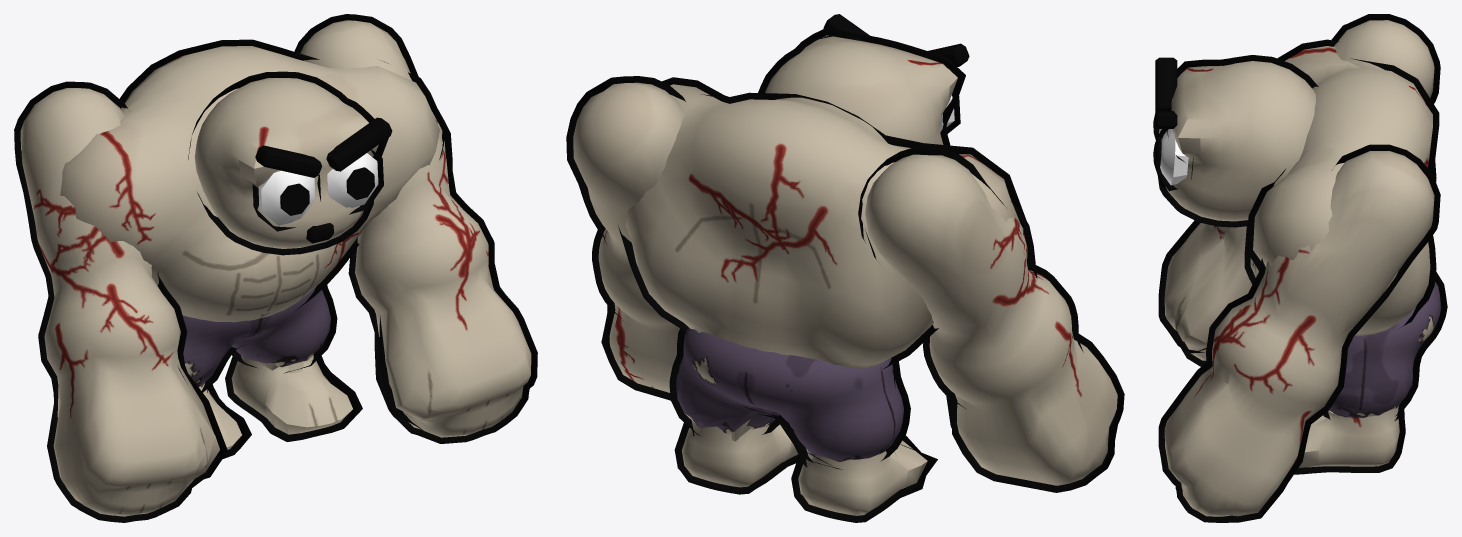
The model's file is tank.glb.
3 renders of one model, left to right at view 1: azimuth 30°, elevation 25°; view 2: azimuth 150°, elevation 25°; view 3: azimuth 270°, elevation 25°, orthographic. The views are drawn at different scales.
Parts seen in each view (by area): view 1: tank_torso, tank_arm_r, tank_arm_l, tank_head, tank_leg_l, tank_leg_r; view 2: tank_torso, tank_arm_r, tank_arm_l, tank_head, tank_leg_r, tank_leg_l; view 3: tank_arm_l, tank_torso, tank_head, tank_arm_r, tank_leg_l.
Boxes of the visible parts, x1,y1,x2,y2 form: tank_torso: (60, 39, 446, 392); tank_arm_r: (14, 81, 227, 522); tank_arm_l: (294, 14, 537, 443); tank_head: (188, 71, 392, 255); tank_leg_l: (225, 289, 362, 441); tank_leg_r: (199, 382, 251, 458); tank_torso: (618, 77, 1027, 469); tank_arm_r: (858, 148, 1124, 492); tank_arm_l: (566, 76, 685, 400); tank_head: (758, 14, 969, 145); tank_leg_r: (791, 369, 937, 522); tank_leg_l: (674, 335, 798, 494); tank_arm_l: (1158, 144, 1440, 522); tank_torso: (1244, 39, 1447, 421); tank_head: (1153, 55, 1318, 227); tank_arm_r: (1158, 14, 1440, 366); tank_leg_l: (1294, 396, 1406, 474).
Size of the model in its own units: 7.61 by 6.15 by 4.42.
1 material, 1 textured.
